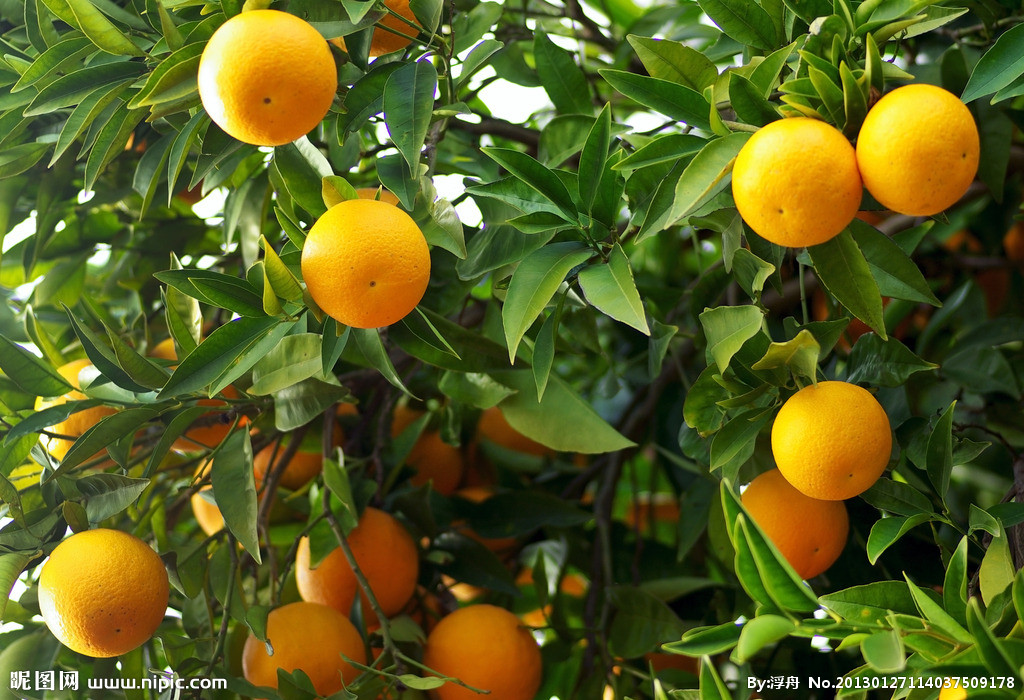orange: (199, 9, 335, 145), (301, 198, 429, 329), (40, 530, 168, 661), (731, 118, 860, 246), (856, 83, 979, 216), (773, 379, 894, 500), (299, 506, 417, 616), (736, 469, 850, 579), (140, 331, 238, 450), (239, 601, 365, 692), (425, 605, 542, 700), (35, 359, 133, 464)
